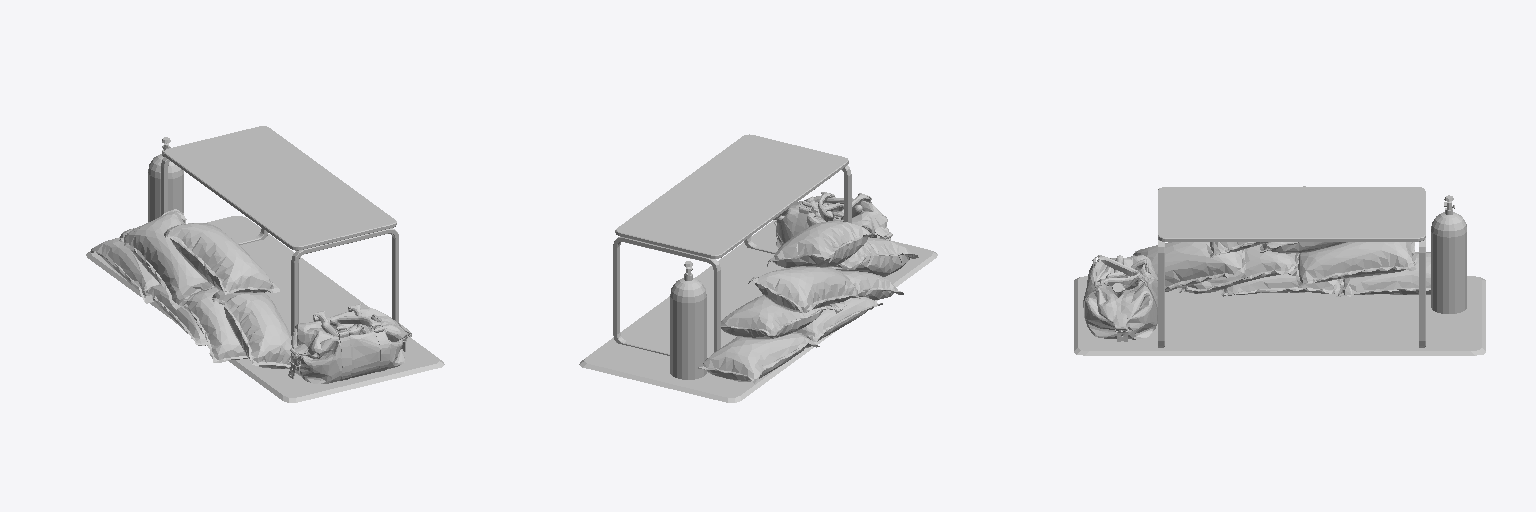
The model's file is Unified Table.obj.
3 views of the same model, side by side, from view 1: azimuth 30°, elevation 25°; view 2: azimuth 150°, elevation 25°; view 3: azimuth 270°, elevation 25° (orthographic).
Visible parts, largest first — view 1: Unified_Table; view 2: Unified_Table; view 3: Unified_Table.
Boxes of the visible parts, x1=… form: Unified_Table: x1=86, y1=126, x2=444, y2=402; Unified_Table: x1=579, y1=134, x2=937, y2=402; Unified_Table: x1=1074, y1=186, x2=1485, y2=355.
Bounding box in the file's own units: 1.53 × 0.9489 × 3.05.